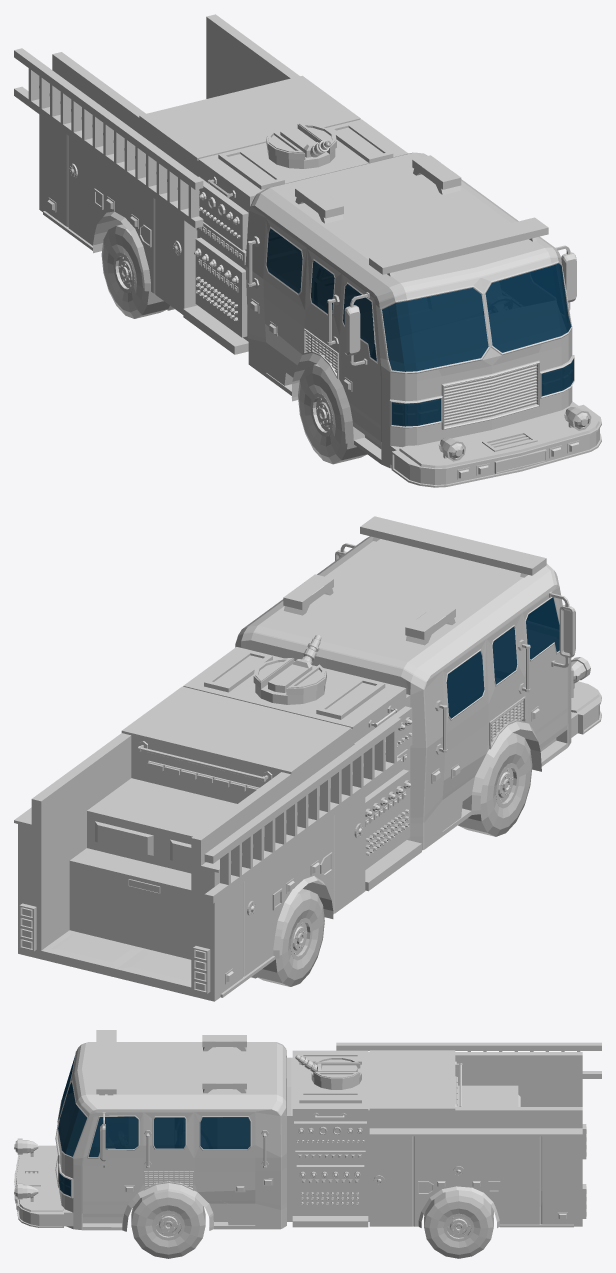
File: firetruck_seperate_wheels.fbx
3 renders of one model, top to bottom at view 1: azimuth 30°, elevation 25°; view 2: azimuth 150°, elevation 25°; view 3: azimuth 270°, elevation 25°, orthographic. The views are drawn at different scales.
Visible parts, largest first — view 1: firetruck, firetruck_glass, firetruck_wheel.002, firetruck_wheel.003, firetruck_water_canon; view 2: firetruck, firetruck_wheel.002, firetruck_glass, firetruck_wheel.003, firetruck_water_canon; view 3: firetruck, firetruck_glass, firetruck_wheel, firetruck_wheel.001, firetruck_water_canon.
Boxes of the visible parts, left/top/right/bottom form: firetruck: left=14, top=14, right=601, bottom=487; firetruck_glass: left=266, top=228, right=573, bottom=426; firetruck_wheel.002: left=298, top=364, right=367, bottom=464; firetruck_wheel.003: left=101, top=224, right=174, bottom=318; firetruck_water_canon: left=266, top=123, right=336, bottom=168; firetruck: left=14, top=516, right=601, bottom=1001; firetruck_wheel.002: left=458, top=732, right=532, bottom=836; firetruck_glass: left=446, top=597, right=559, bottom=718; firetruck_wheel.003: left=251, top=889, right=324, bottom=986; firetruck_water_canon: left=253, top=635, right=326, bottom=704; firetruck: left=14, top=1030, right=601, bottom=1231; firetruck_glass: left=58, top=1056, right=250, bottom=1196; firetruck_wheel: left=131, top=1189, right=205, bottom=1258; firetruck_wheel.001: left=424, top=1190, right=493, bottom=1258; firetruck_water_canon: left=295, top=1054, right=361, bottom=1089.
Size of the model in its own units: 484 by 470 by 1468.
